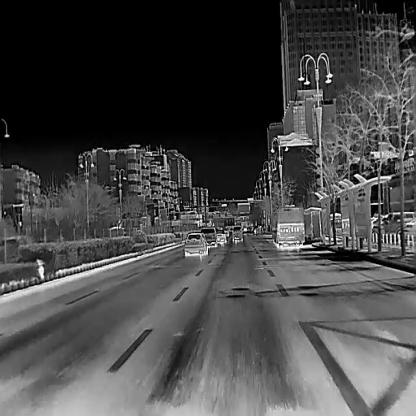bus: (271, 204, 305, 247)
car: (386, 211, 415, 234), (184, 231, 208, 256), (201, 227, 217, 246), (215, 228, 226, 244), (232, 225, 242, 242), (222, 226, 229, 236)
